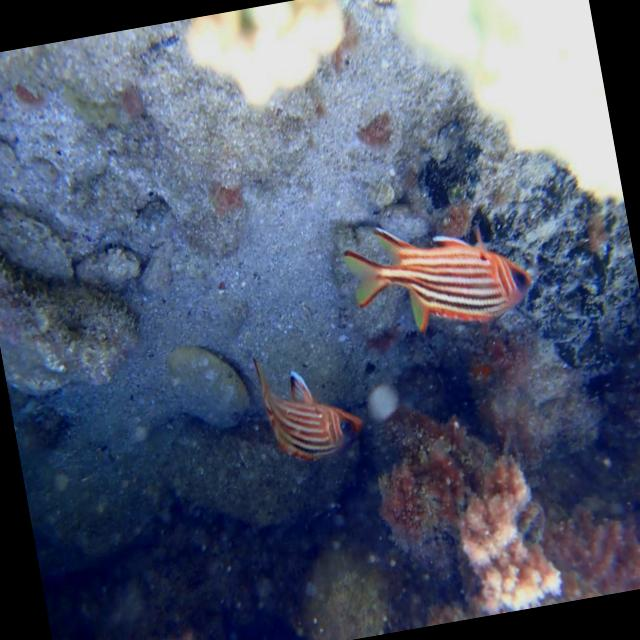Asker Baligi: (337, 198, 540, 348), (251, 340, 369, 471)
